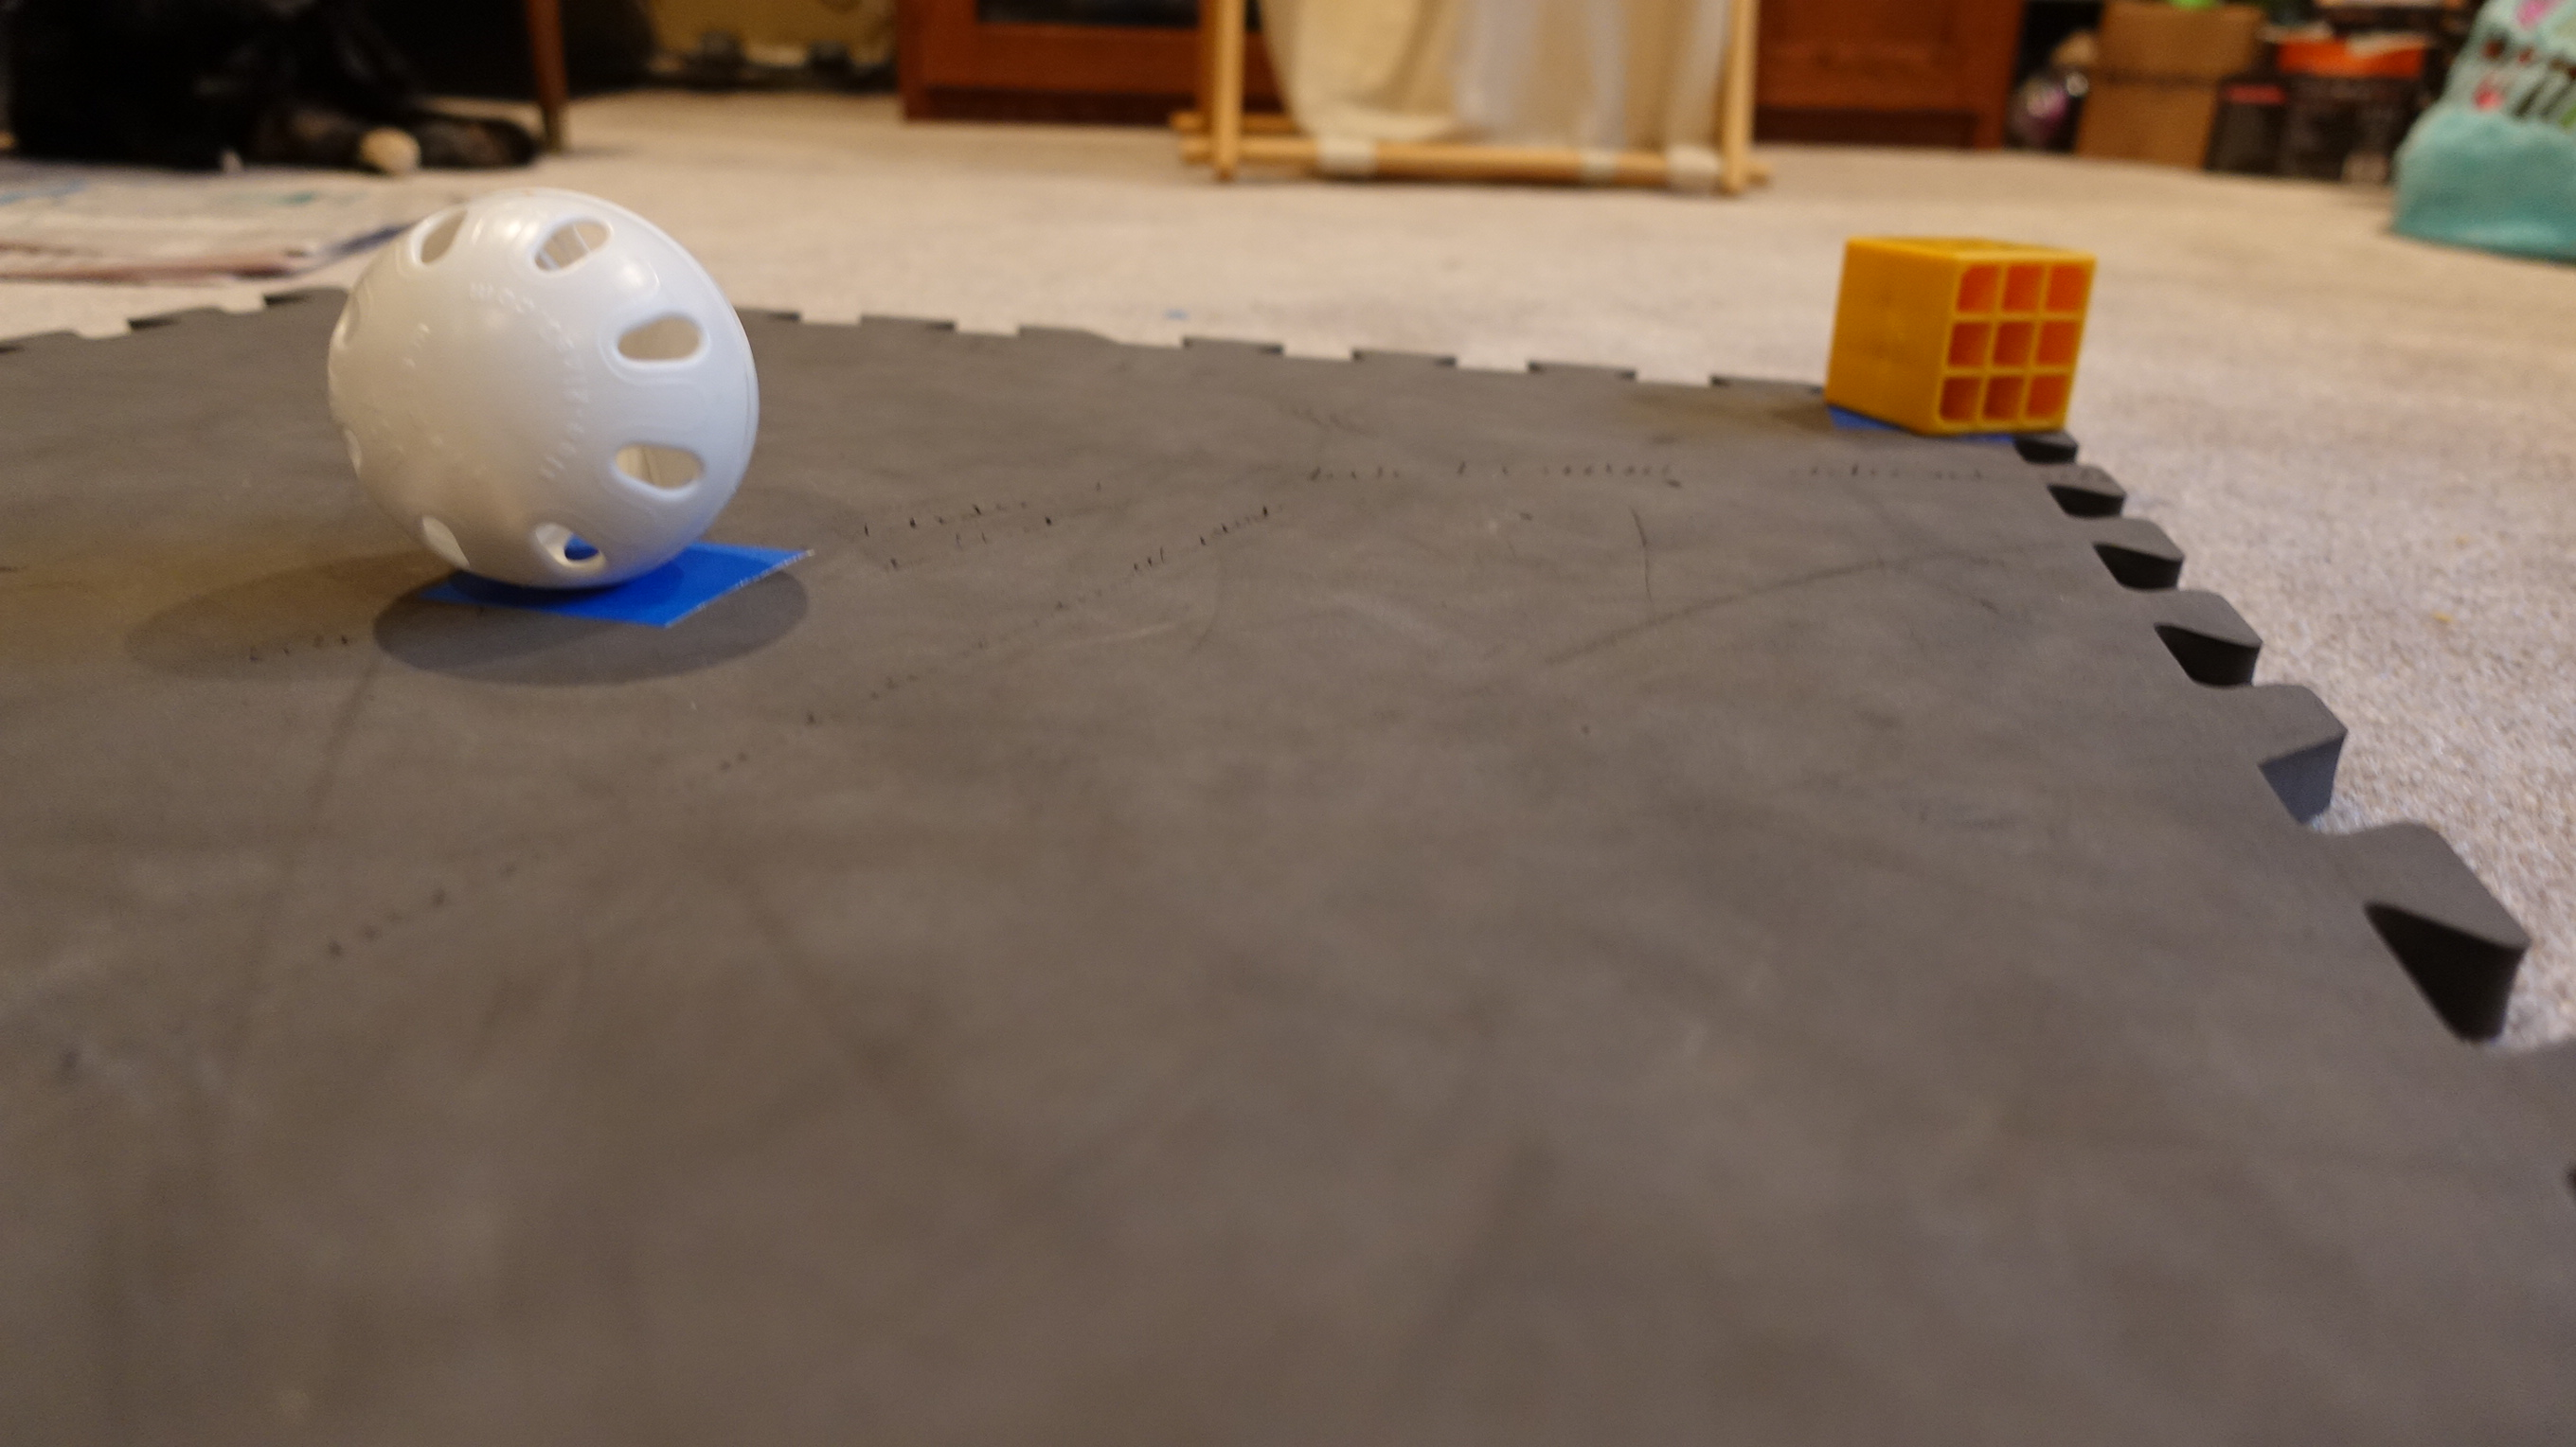gold: (1815, 228, 2104, 442)
silver: (315, 182, 763, 600)
